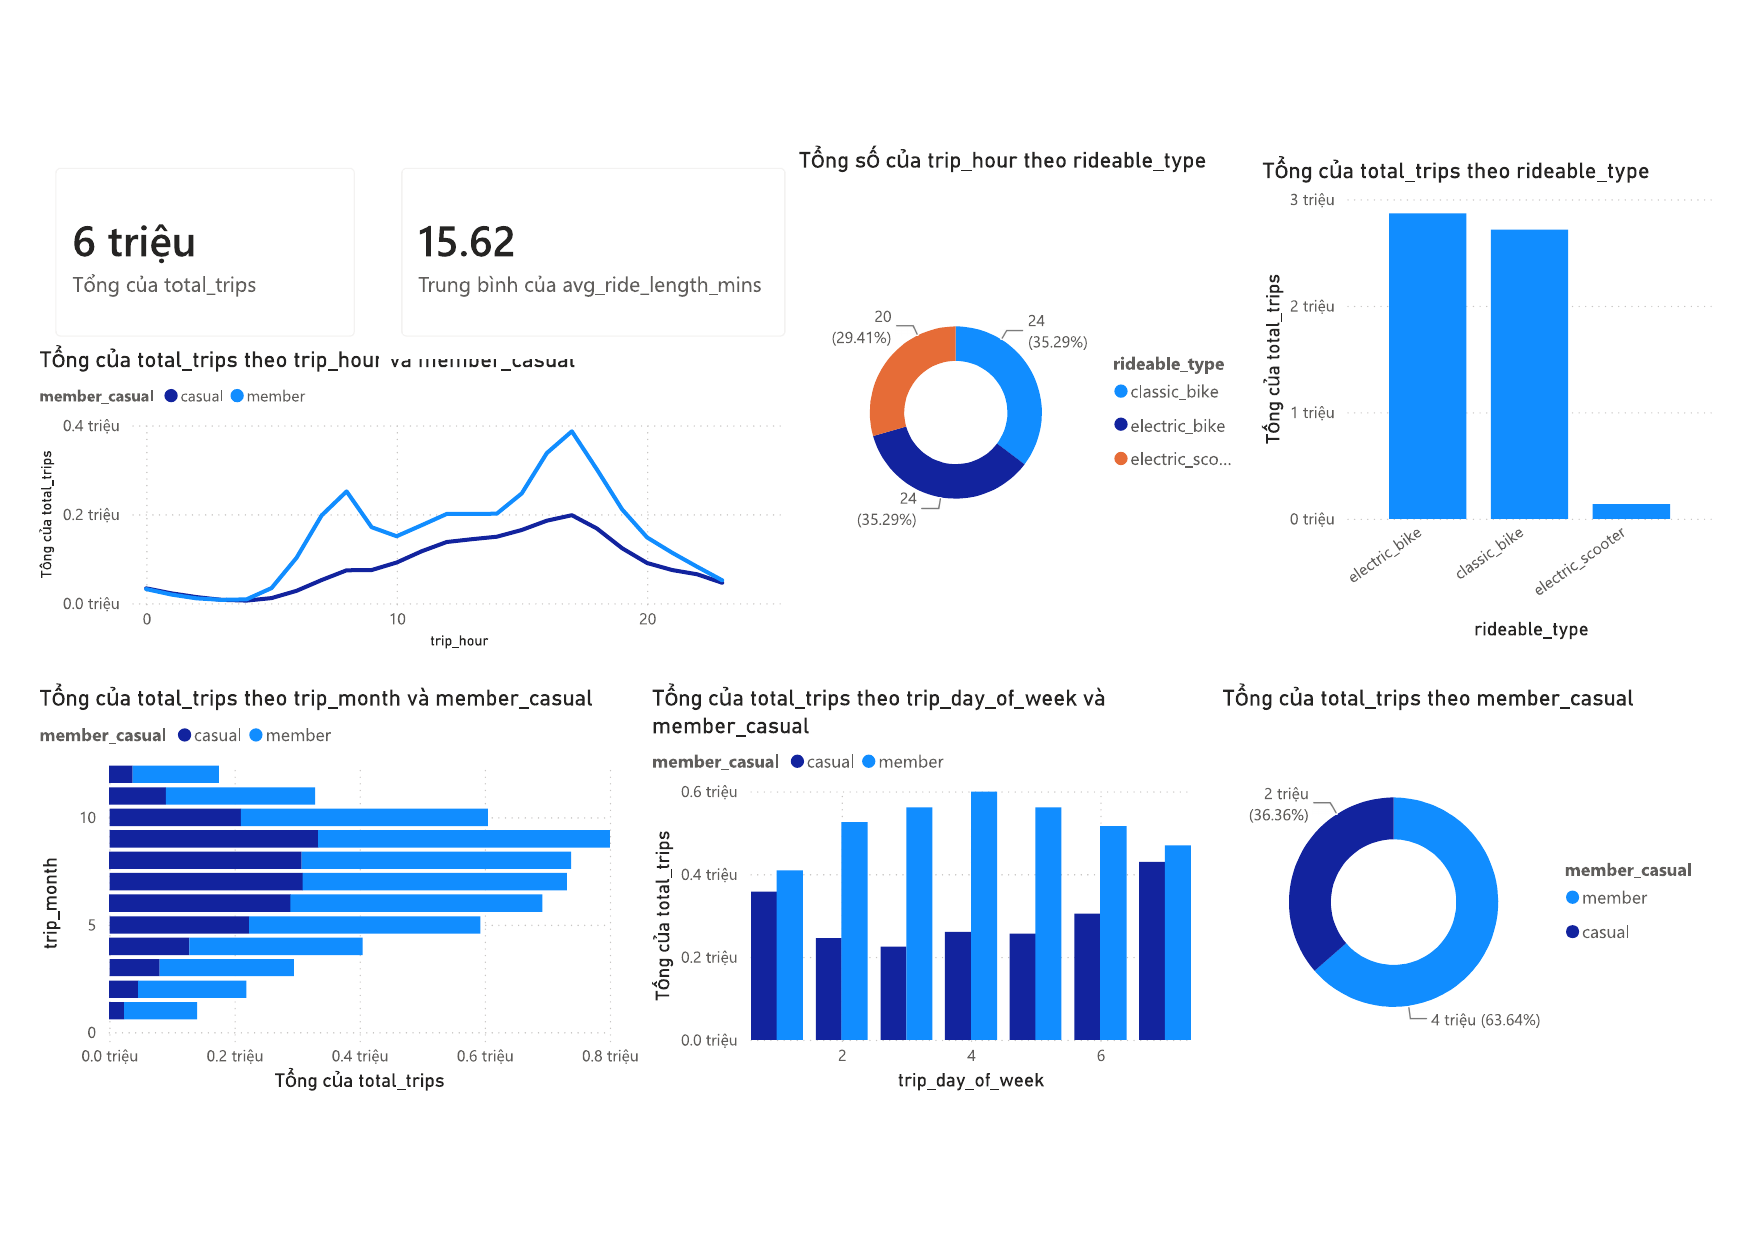

The page's visual inventory and layout, read from the dashboard file:
{"tool":"powerbi","page":{"name":"Trang 1","canvas":[1280,720],"ordinal":0},"visuals":[{"type":"cardVisual","fields":{"Data":["Sum(Truy vấn1.total_trips)"]},"box":[0,0,261.8,162.1],"z":0},{"type":"donutChart","fields":{"Category":["Truy vấn1.member_casual"],"Y":["Sum(Truy vấn1.total_trips)"]},"box":[896.1,406.8,383.4,313.2],"z":1000},{"type":"lineChart","fields":{"Y":["Sum(Truy vấn1.total_trips)"],"Category":["Truy vấn1.trip_hour"],"Series":["Truy vấn1.member_casual"]},"box":[0,151.2,575.1,235.3],"z":2000},{"type":"cardVisual","fields":{"Data":["Avg(Truy vấn1.avg_ride_length_mins)"]},"box":[261.8,0,325.7,162.1],"z":3000},{"type":"lineClusteredColumnComboChart","fields":{"Category":["Truy vấn1.trip_day_of_week"],"Y":["Sum(Truy vấn1.total_trips)"],"Series":["Truy vấn1.member_casual"]},"box":[464.4,406.8,417.7,313.2],"z":4000},{"type":"barChart","fields":{"Y":["Sum(Truy vấn1.total_trips)"],"Category":["Truy vấn1.trip_month"],"Series":["Truy vấn1.member_casual"]},"box":[0,406.8,464.4,313.2],"z":5000},{"type":"donutChart","fields":{"Category":["Truy vấn1.rideable_type"],"Y":["Count(Truy vấn1.trip_hour)"]},"box":[575.1,0,350.6,386.5],"z":6000},{"type":"lineClusteredColumnComboChart","fields":{"Category":["Truy vấn1.rideable_type"],"Y":["Sum(Truy vấn1.total_trips)"]},"box":[925.7,7.8,353.8,370.9],"z":6001}]}

Visuals, with their boxes on the page's 1280x720 design canvas (x1, y1, x2, y2). These are canvas units, not pixel positions in the 1755x1241 screenshot, which may show the page scaled, cropped or inside an application window:
cardVisual - Sum(Truy vấn1.total_trips): l=0, t=0, r=262, b=162
donutChart - Truy vấn1.member_casual x Sum(Truy vấn1.total_trips): l=896, t=407, r=1280, b=720
lineChart - Sum(Truy vấn1.total_trips) x Truy vấn1.trip_hour: l=0, t=151, r=575, b=386
cardVisual - Avg(Truy vấn1.avg_ride_length_mins): l=262, t=0, r=588, b=162
lineClusteredColumnComboChart - Truy vấn1.trip_day_of_week x Sum(Truy vấn1.total_trips): l=464, t=407, r=882, b=720
barChart - Sum(Truy vấn1.total_trips) x Truy vấn1.trip_month: l=0, t=407, r=464, b=720
donutChart - Truy vấn1.rideable_type x Count(Truy vấn1.trip_hour): l=575, t=0, r=926, b=386
lineClusteredColumnComboChart - Truy vấn1.rideable_type x Sum(Truy vấn1.total_trips): l=926, t=8, r=1280, b=379
